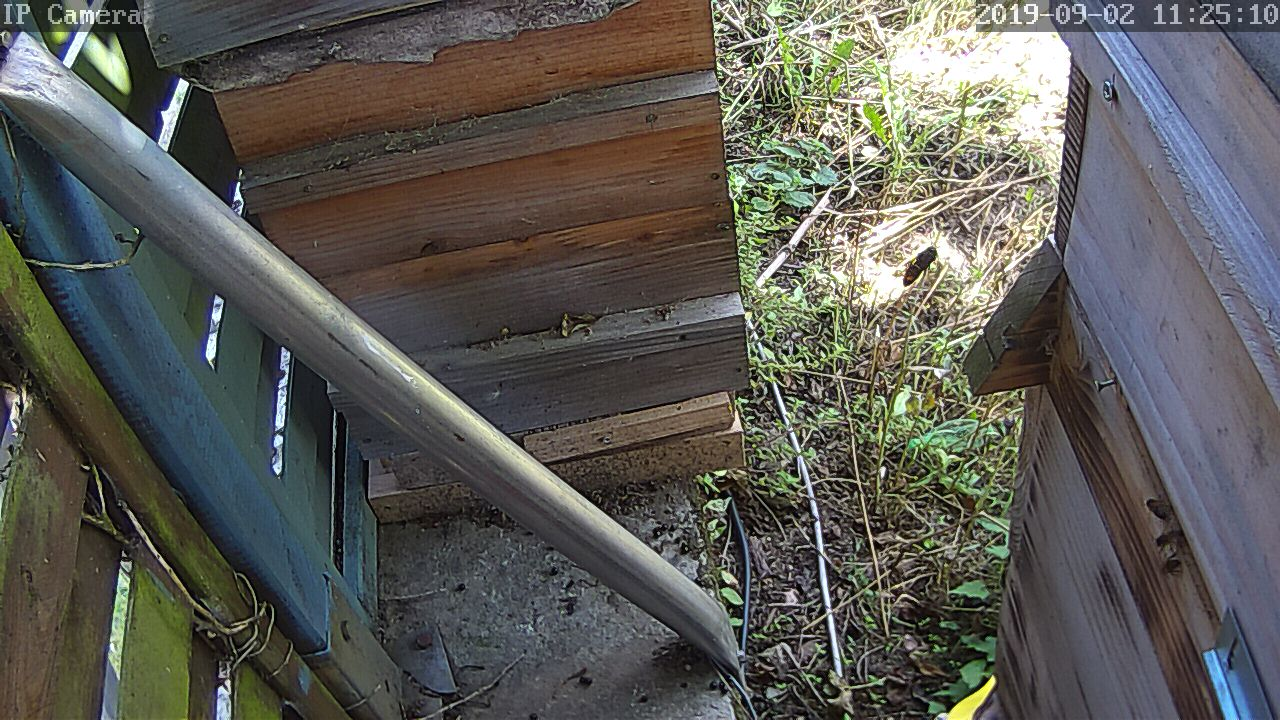bee: (1158, 546, 1190, 577), (1138, 491, 1168, 522)
